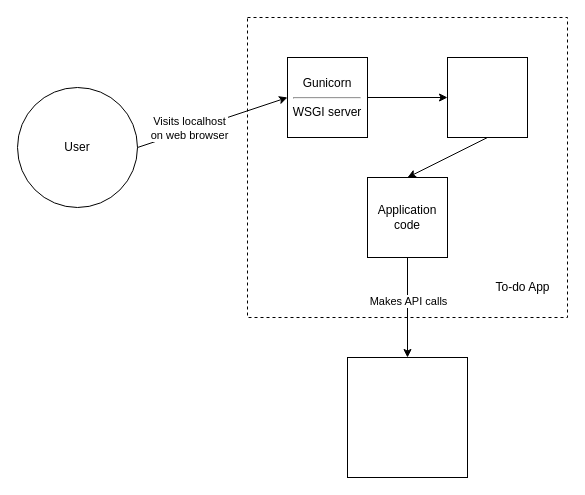
The diagram is 585 pixels wide and 495 high, and some of its shapes have lost their labels. Each missing label, with the centre of its shape:
Flask Web framework: point 487,97
Trello Stores information about tasks: point 407,417
